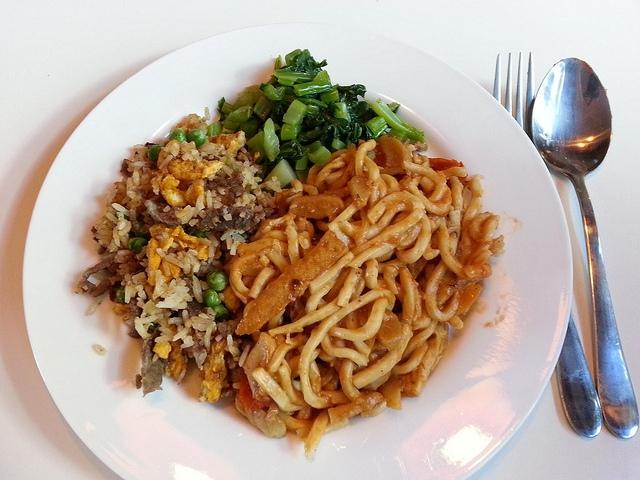pea: (206, 269, 229, 291), (188, 128, 206, 146), (203, 289, 221, 307), (130, 238, 148, 254), (212, 304, 230, 319), (170, 128, 188, 142), (148, 145, 162, 162)
